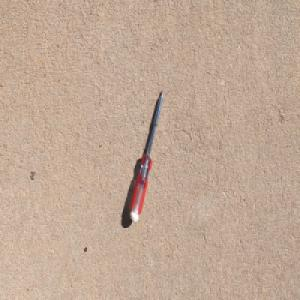Screwdriver: (129, 87, 164, 223)
